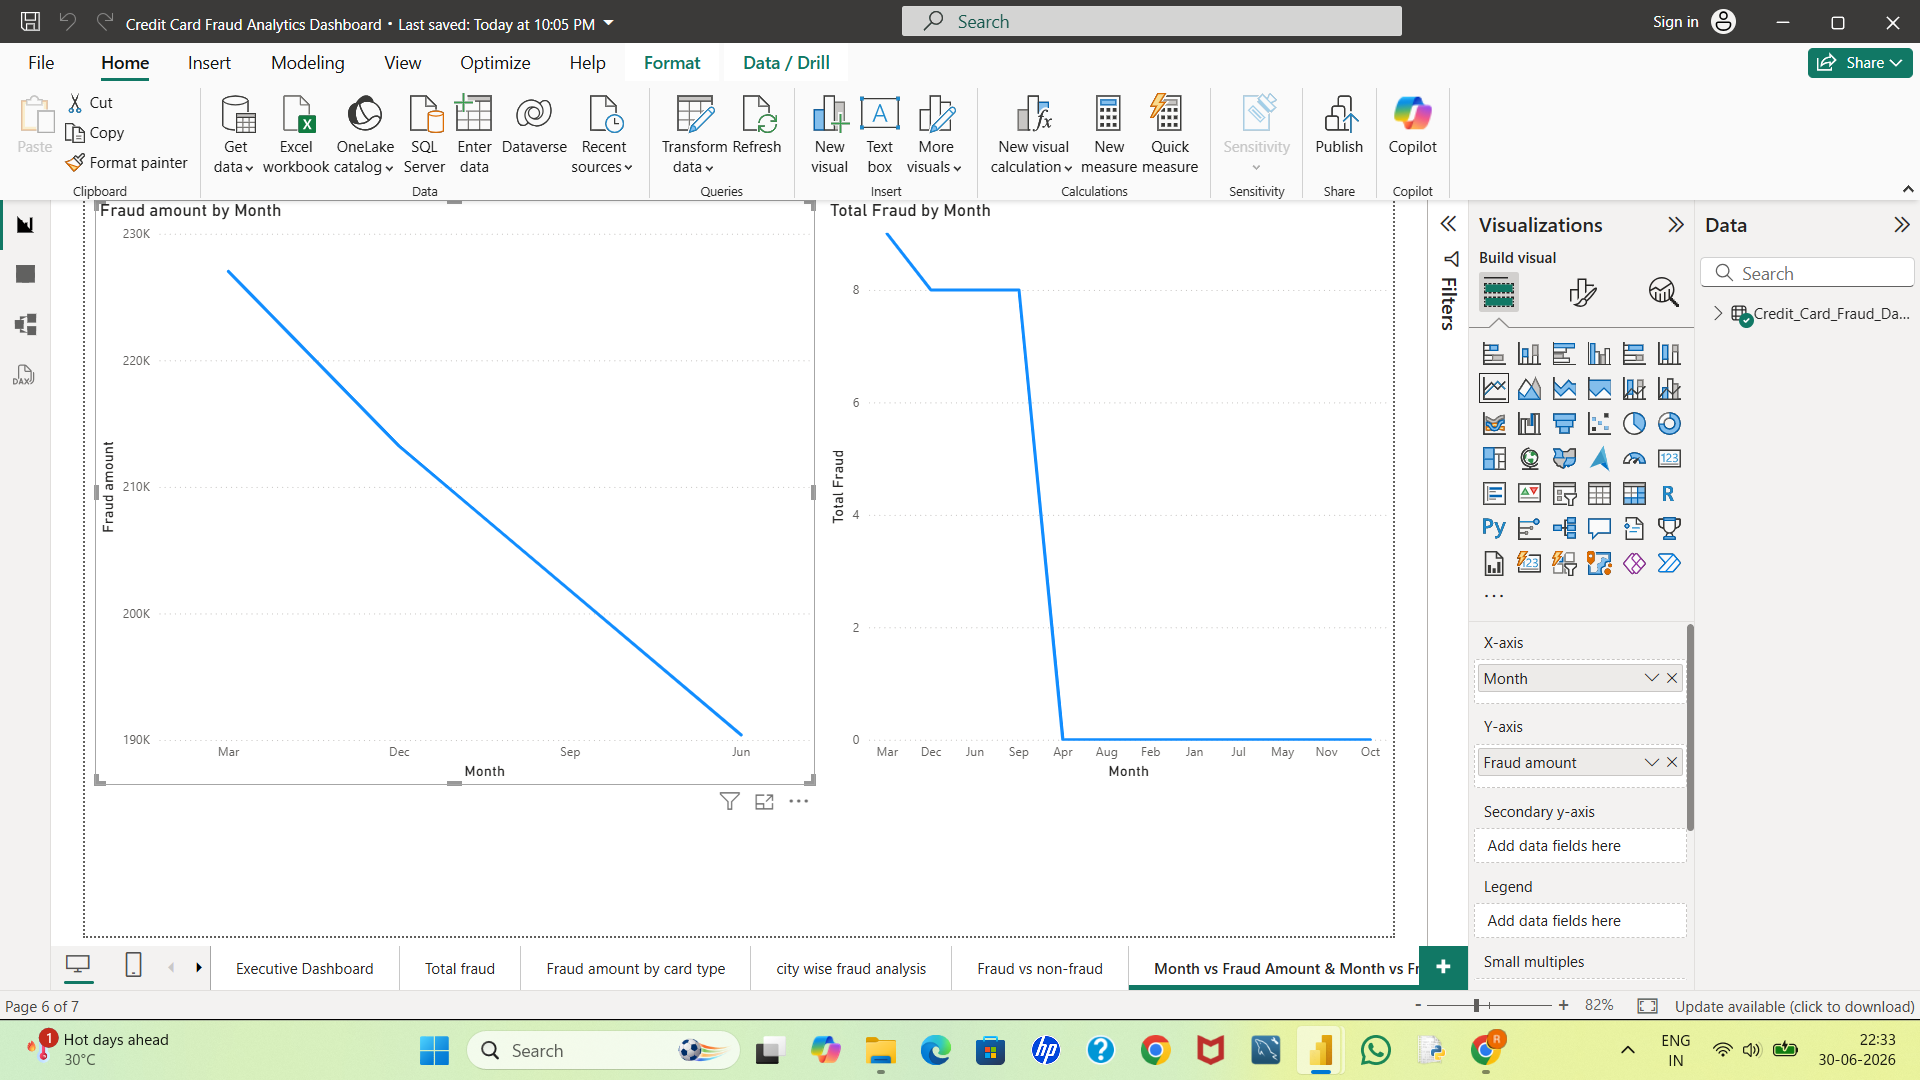

The page's visual inventory and layout, read from the dashboard file:
{"tool":"powerbi","page":{"name":"Month vs Fraud Amount & Month vs Fraud count","canvas":[1280,720],"ordinal":5},"visuals":[{"type":"lineChart","fields":{"Category":["Credit_Card_Fraud_Dataset_100Rows.Month"],"Y":["Credit_Card_Fraud_Dataset_100Rows.Fraud amount"]},"box":[9.8,0,704.4,572.3],"z":0},{"type":"lineChart","fields":{"Category":["Credit_Card_Fraud_Dataset_100Rows.Month"],"Y":["Credit_Card_Fraud_Dataset_100Rows.Total Fraud"]},"box":[724,0,556,572],"z":1000}]}

Visuals, with their boxes on the page's 1280x720 design canvas (x1, y1, x2, y2). These are canvas units, not pixel positions in the 1920x1080 screenshot, which may show the page scaled, cropped or inside an application window:
lineChart - Credit_Card_Fraud_Dataset_100Rows.Month x Credit_Card_Fraud_Dataset_100Rows.Fraud amount: x1=10 y1=0 x2=714 y2=572
lineChart - Credit_Card_Fraud_Dataset_100Rows.Month x Credit_Card_Fraud_Dataset_100Rows.Total Fraud: x1=724 y1=0 x2=1280 y2=572
